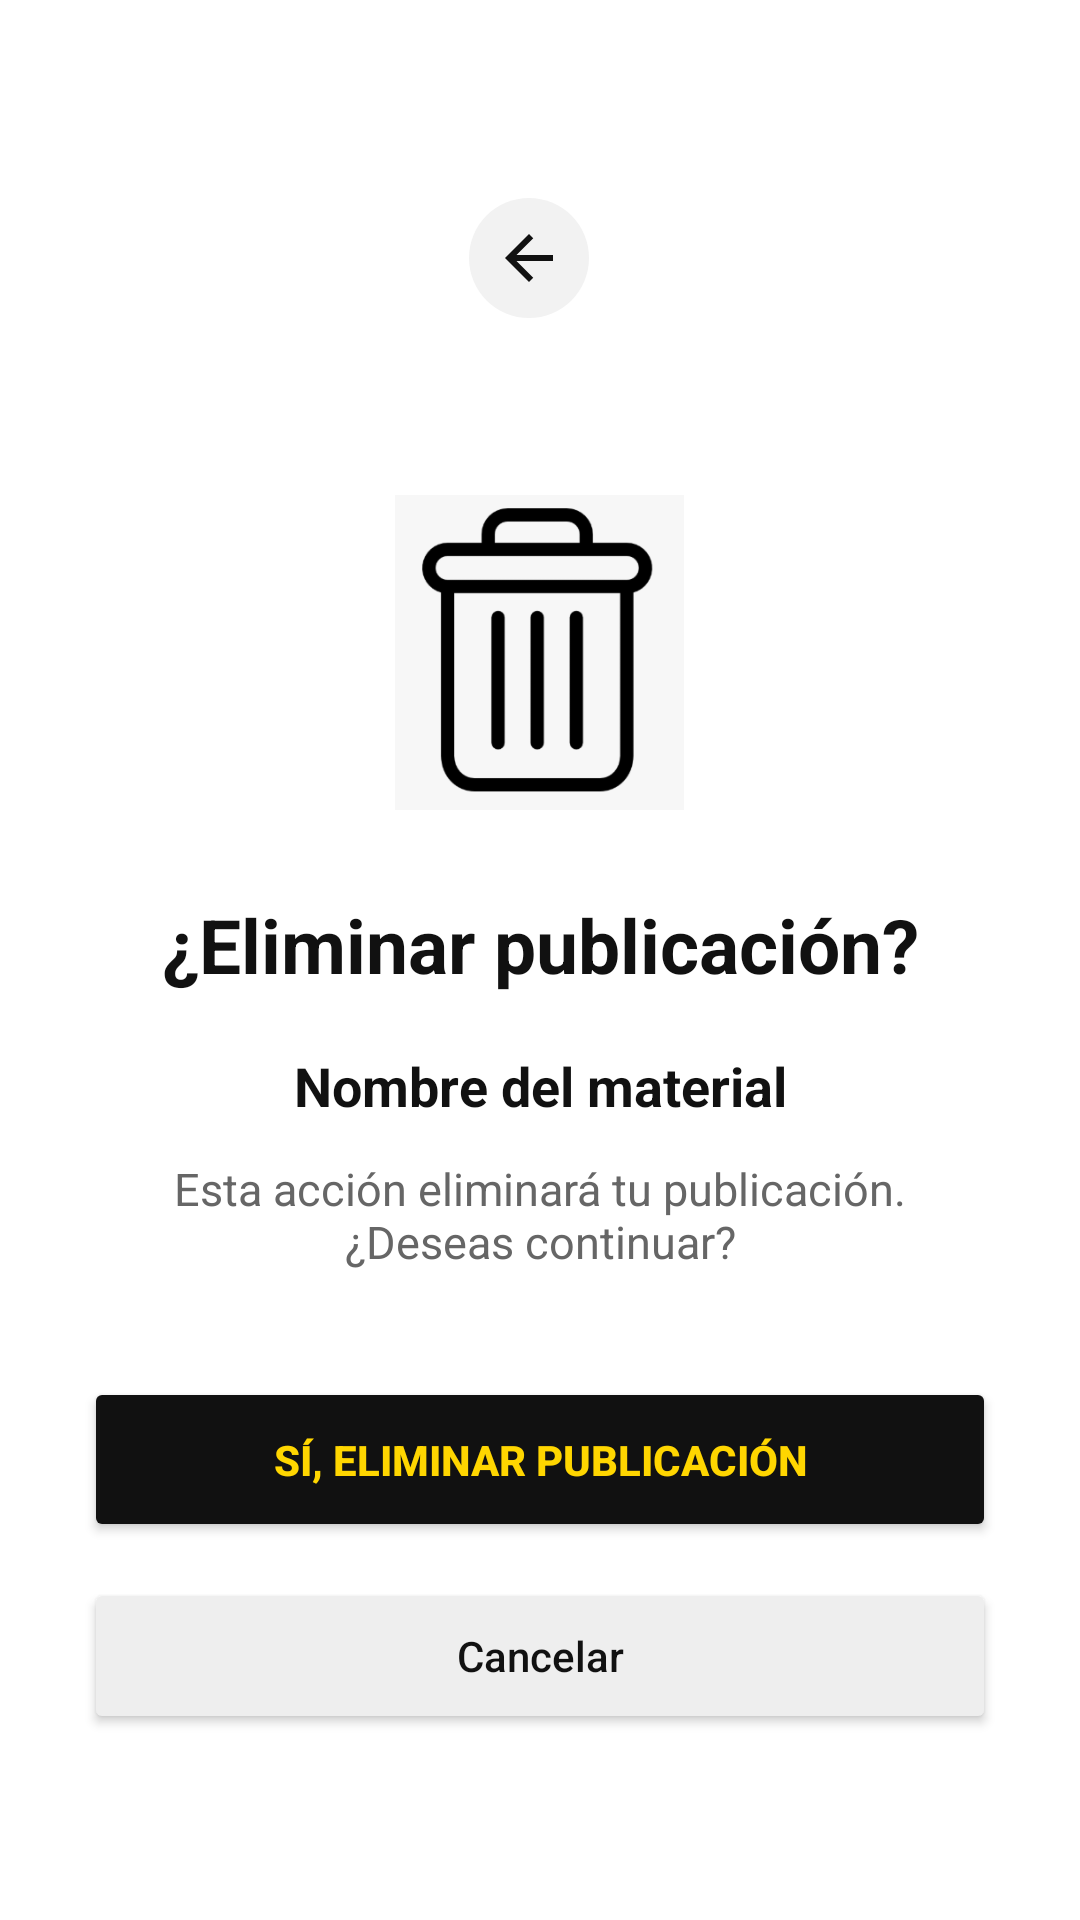

Where to tap for icons on this 1080px x 1920px app screen, as point (x, y):
Regresar: point (529, 258)
